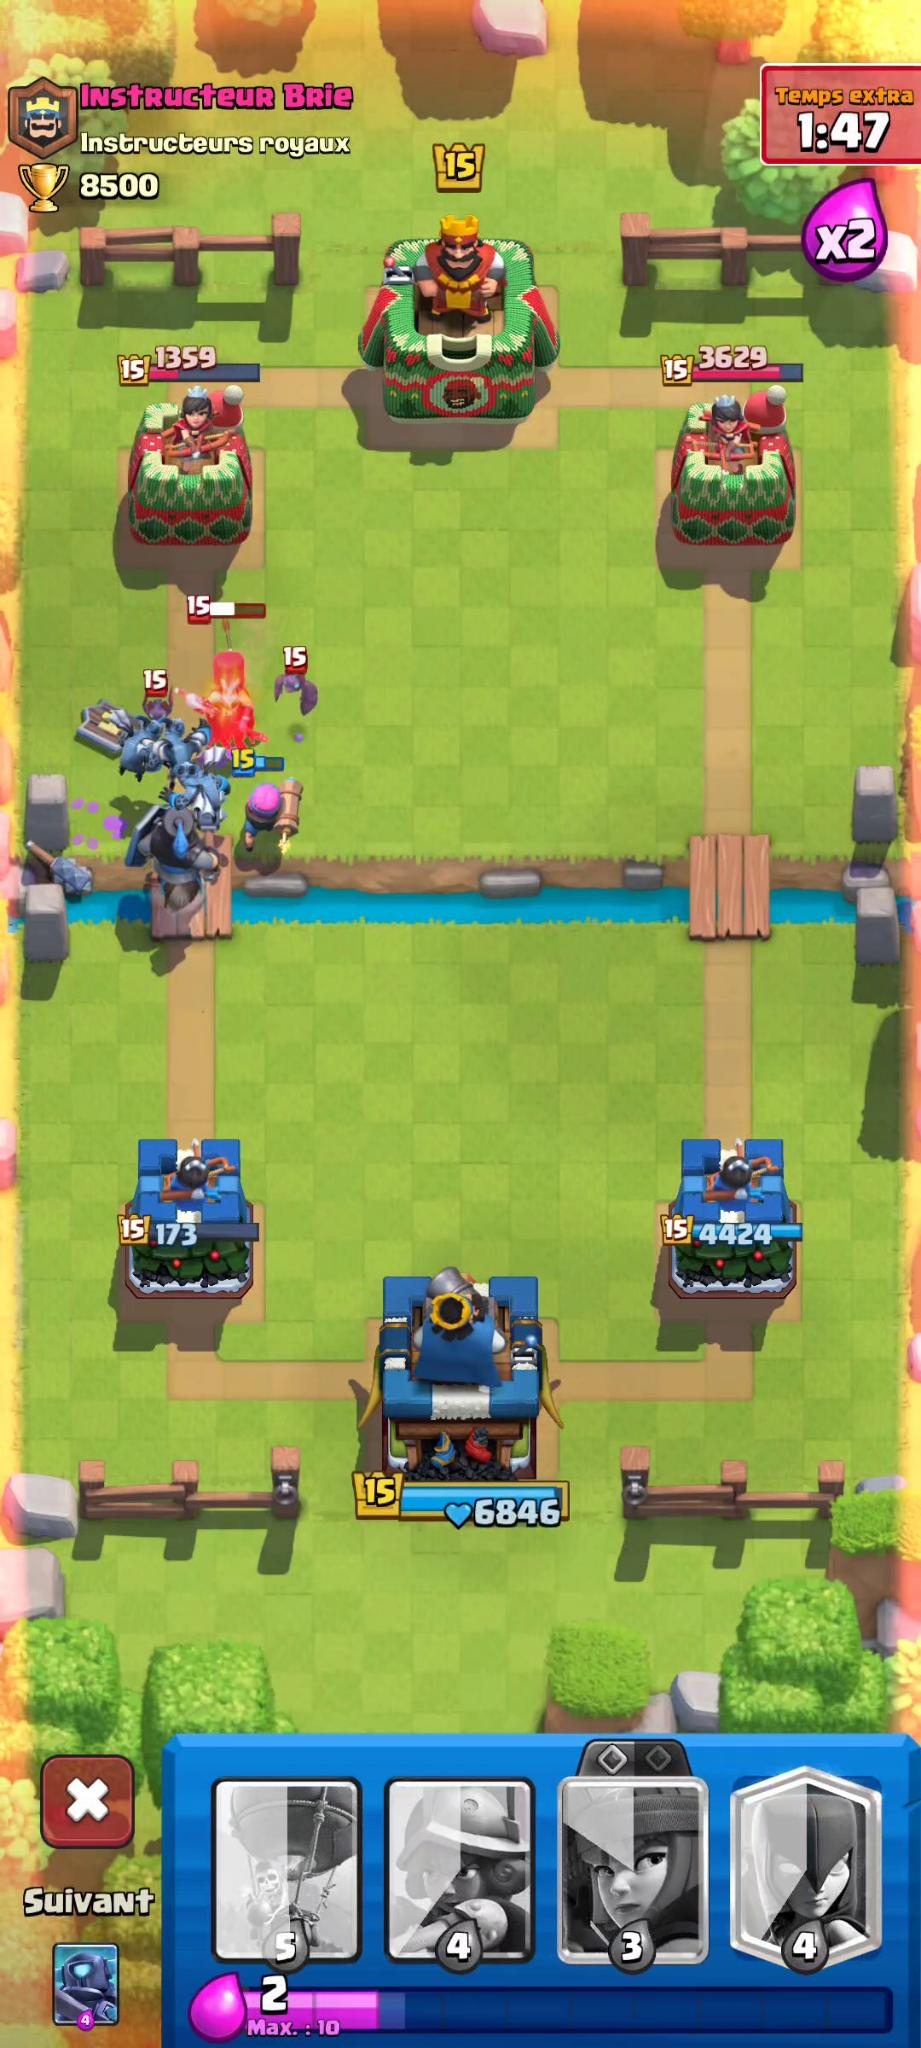bat: (268, 645, 332, 724), (140, 670, 184, 735)
gargouille: (110, 718, 161, 786), (152, 724, 206, 778), (183, 767, 233, 827)
